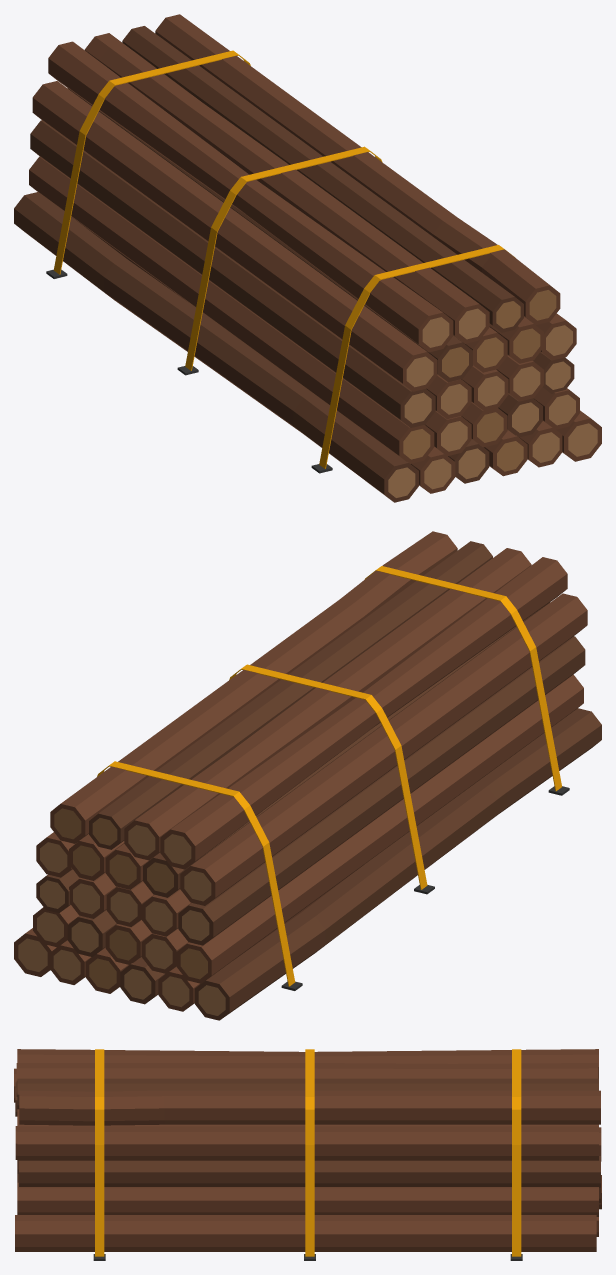
Rendered from SM_Vehicles_TrainPart_01.fbx.
3 renders of one model, top to bottom at view 1: azimuth 30°, elevation 25°; view 2: azimuth 150°, elevation 25°; view 3: azimuth 270°, elevation 25°, orthographic. The views are drawn at different scales.
Visible parts, largest first — view 1: SM_Vehicles_TrainPart_01; view 2: SM_Vehicles_TrainPart_01; view 3: SM_Vehicles_TrainPart_01.
Part boxes in pixels (left/top/right/bottom): SM_Vehicles_TrainPart_01: left=14, top=14, right=601, bottom=502; SM_Vehicles_TrainPart_01: left=14, top=531, right=601, bottom=1020; SM_Vehicles_TrainPart_01: left=14, top=1049, right=601, bottom=1260.
Bounding box in the file's own units: 3.26 × 2.26 × 8.53.
